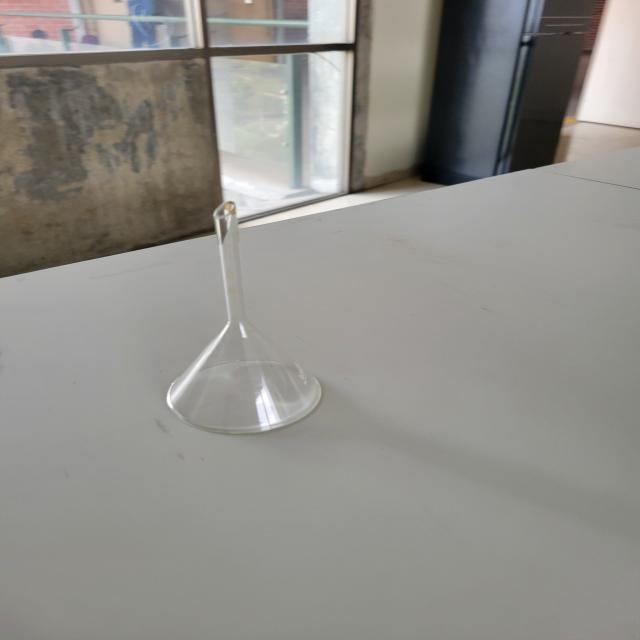Funnel: (85, 194, 394, 443)
